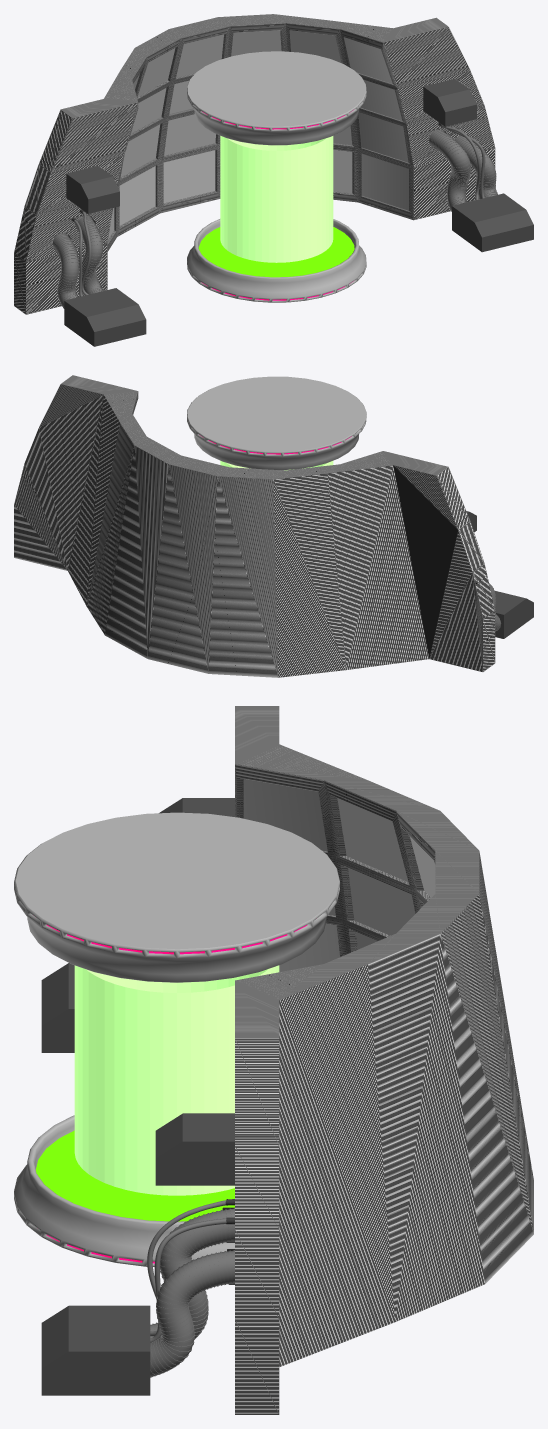
The model's file is Holochamber1.fbx.
3 renders of one model, top to bottom at view 1: azimuth 30°, elevation 25°; view 2: azimuth 150°, elevation 25°; view 3: azimuth 270°, elevation 25°, orthographic. The views are drawn at different scales.
Visible parts, largest first — view 1: Circle, Circle_003, Circle_004, Holo_Noise, Circle_001, Circle_002; view 2: Circle, Circle_004, Circle_003; view 3: Circle, Circle_004, Circle_003, Holo_Noise, Circle_001, Circle_002.
Boxes of the visible parts, x1=… form: Circle: x1=14, y1=14, x2=495, y2=314; Circle_003: x1=52, y1=79, x2=533, y2=346; Circle_004: x1=187, y1=51, x2=366, y2=145; Holo_Noise: x1=220, y1=136, x2=333, y2=262; Circle_001: x1=187, y1=219, x2=366, y2=302; Circle_002: x1=198, y1=227, x2=354, y2=277; Circle: x1=14, y1=375, x2=495, y2=677; Circle_004: x1=187, y1=376, x2=366, y2=470; Circle_003: x1=466, y1=511, x2=533, y2=638; Circle: x1=235, y1=706, x2=533, y2=1414; Circle_004: x1=14, y1=812, x2=339, y2=982; Circle_003: x1=41, y1=798, x2=234, y2=1395; Holo_Noise: x1=74, y1=965, x2=279, y2=1195; Circle_001: x1=14, y1=1115, x2=234, y2=1266; Circle_002: x1=36, y1=1130, x2=234, y2=1221.
Bounding box in the file's own units: 18.05 × 6.98 × 9.57.
